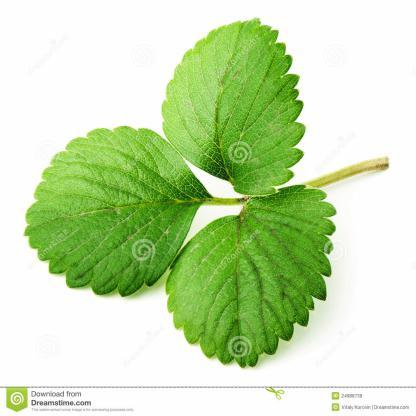Strawberry leaf: (13, 123, 206, 296), (168, 176, 336, 366), (160, 15, 306, 201)
